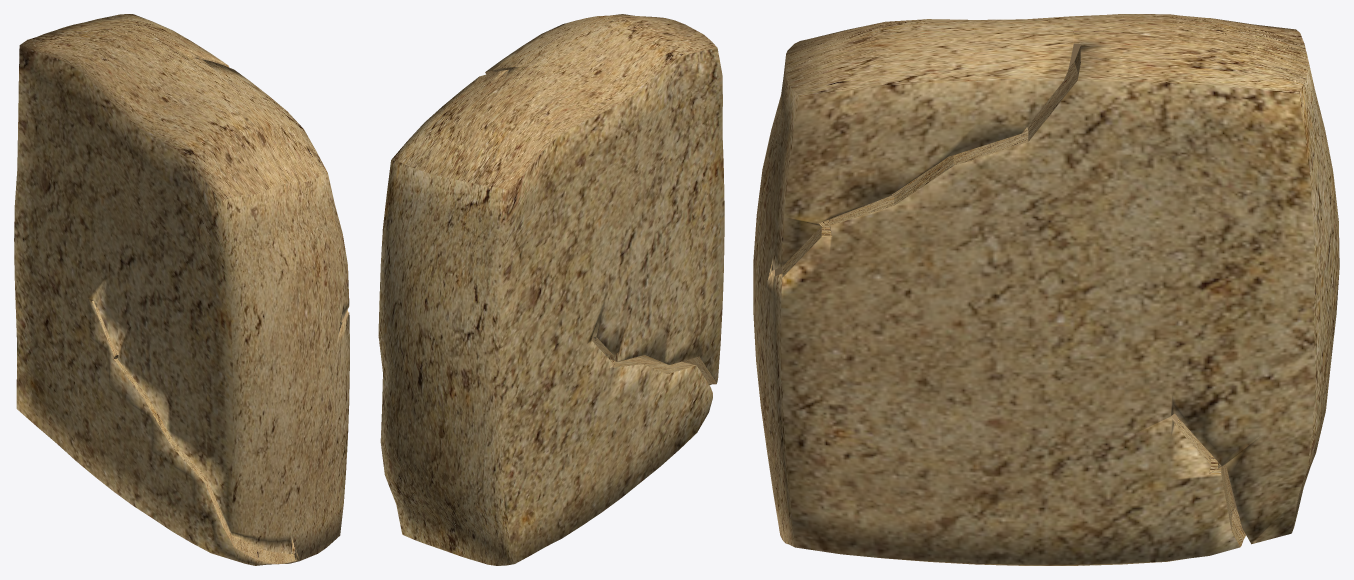
File: letterslab.glb
3 renders of one model, left to right at view 1: azimuth 30°, elevation 25°; view 2: azimuth 150°, elevation 25°; view 3: azimuth 270°, elevation 25°, orthographic. The views are drawn at different scales.
Parts seen in each view (by area): view 1: Cube.001; view 2: Cube.001; view 3: Cube.001.
Boxes of the visible parts, x1,y1,x2,y2 form: Cube.001: (14, 14, 349, 565); Cube.001: (378, 14, 724, 565); Cube.001: (753, 14, 1339, 565).
Size of the model in its own units: 0.1813 by 0.583 by 0.5812.
Materials: 1 (1 with a texture image).
